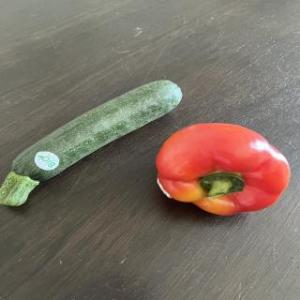bell_pepper: (148, 114, 288, 230)
zucchini: (0, 75, 184, 221)
